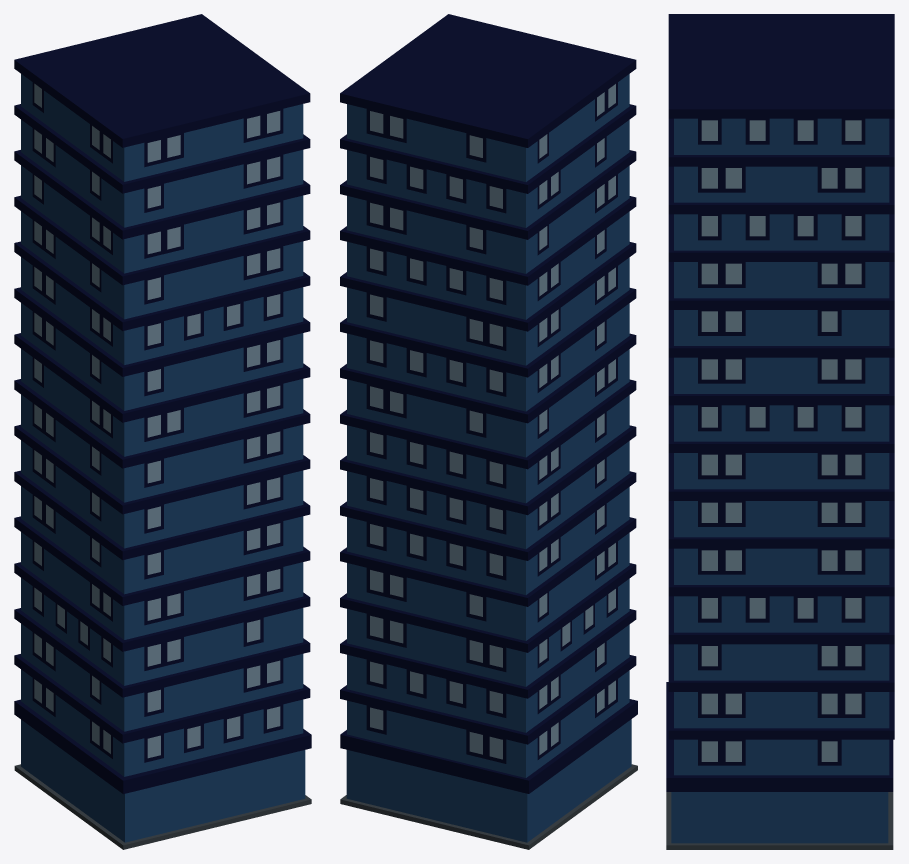
Rendered from sky blue.fbx.
3 views of the same model, side by side, from view 1: azimuth 30°, elevation 25°; view 2: azimuth 150°, elevation 25°; view 3: azimuth 270°, elevation 25° (orthographic). The views are drawn at different scales.
Parts seen in each view (by area): view 1: skyscraper blue; view 2: skyscraper blue; view 3: skyscraper blue.
Boxes of the visible parts, left/top/right/bottom form: skyscraper blue: left=14, top=14, right=311, bottom=849; skyscraper blue: left=340, top=14, right=637, bottom=849; skyscraper blue: left=666, top=14, right=894, bottom=849.
Size of the model in its own units: 8.63 by 31.06 by 8.68.
